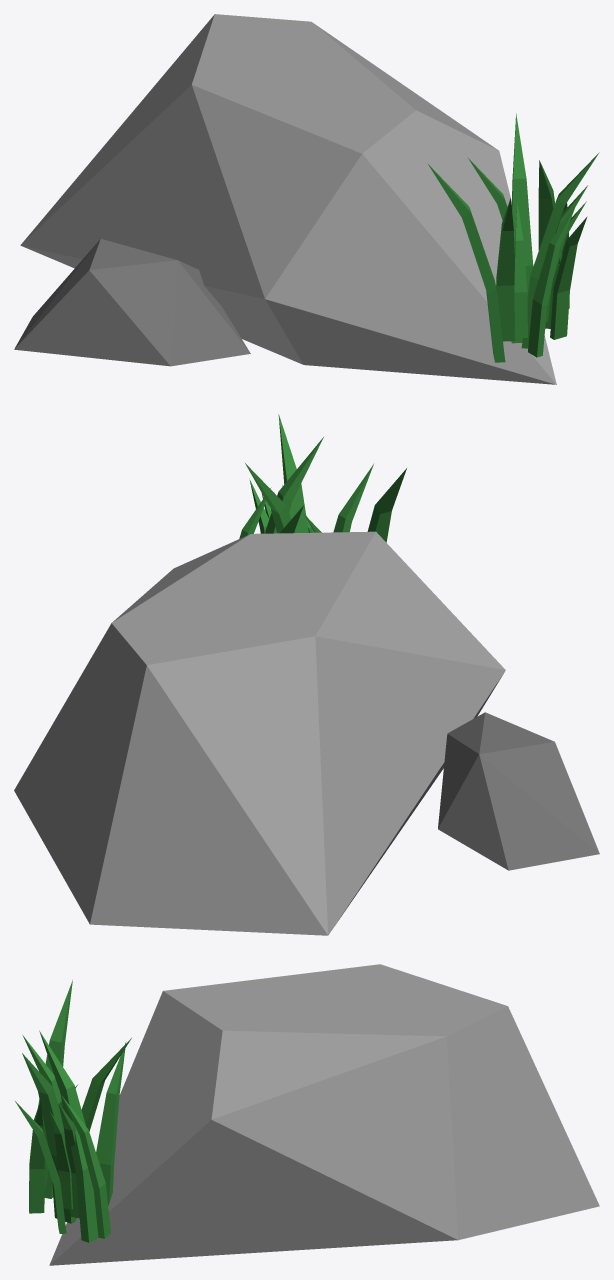
File: stones_011.glb
The picture shows the model from 3 angles, top to bottom: view 1: azimuth 30°, elevation 25°; view 2: azimuth 150°, elevation 25°; view 3: azimuth 270°, elevation 25°; orthographic projection. The views are drawn at different scales.
Visible parts, largest first — view 1: stones_011; view 2: stones_011; view 3: stones_011.
Boxes of the visible parts, x1=… form: stones_011: x1=14, y1=14, x2=599, y2=384; stones_011: x1=14, y1=414, x2=599, y2=935; stones_011: x1=15, y1=964, x2=599, y2=1265.
Bounding box in the file's own units: 3.24 × 1.63 × 3.74.
Materials: 1 (1 with a texture image).
